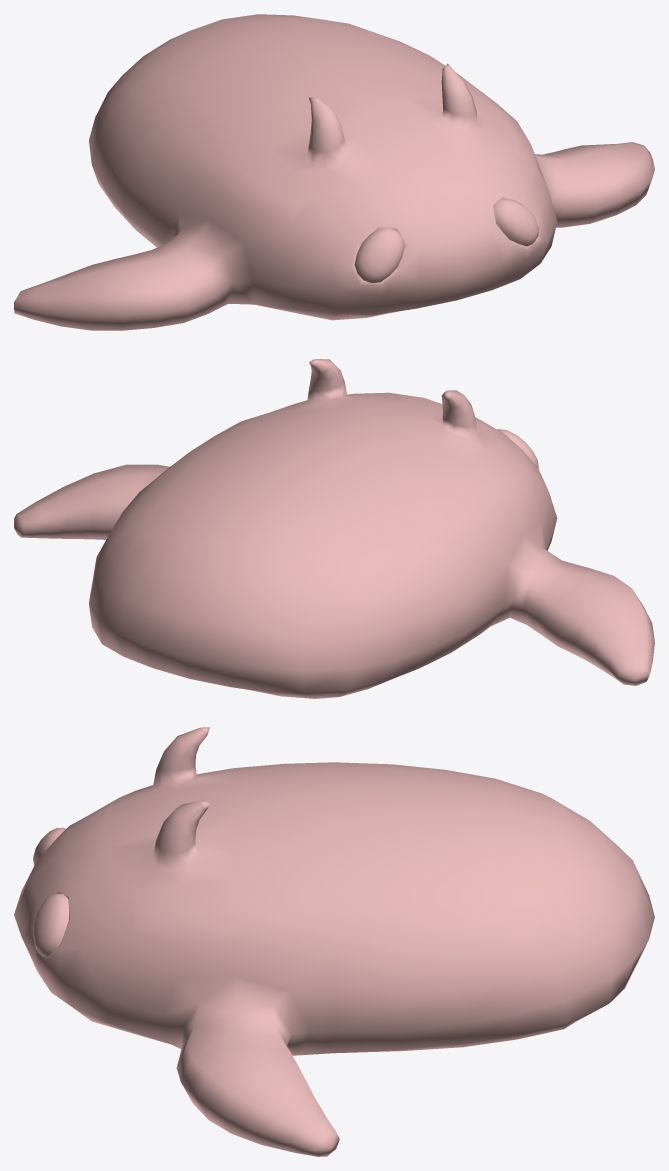
The model's file is PROPS_GOODS_PAINCHOCOLAT_MODEL.fbx.
3 renders of one model, top to bottom at view 1: azimuth 30°, elevation 25°; view 2: azimuth 150°, elevation 25°; view 3: azimuth 270°, elevation 25°, orthographic. The views are drawn at different scales.
Parts seen in each view (by area): view 1: PROPS_GOODS_PAINCHOCOLAT_MODEL; view 2: PROPS_GOODS_PAINCHOCOLAT_MODEL; view 3: PROPS_GOODS_PAINCHOCOLAT_MODEL.
Part boxes in pixels (x1,y1,x2,y2): PROPS_GOODS_PAINCHOCOLAT_MODEL: (14,14,654,330); PROPS_GOODS_PAINCHOCOLAT_MODEL: (14,359,654,698); PROPS_GOODS_PAINCHOCOLAT_MODEL: (14,727,654,1156).
Bounding box in the file's own units: 18.58 × 5.54 × 14.29.
